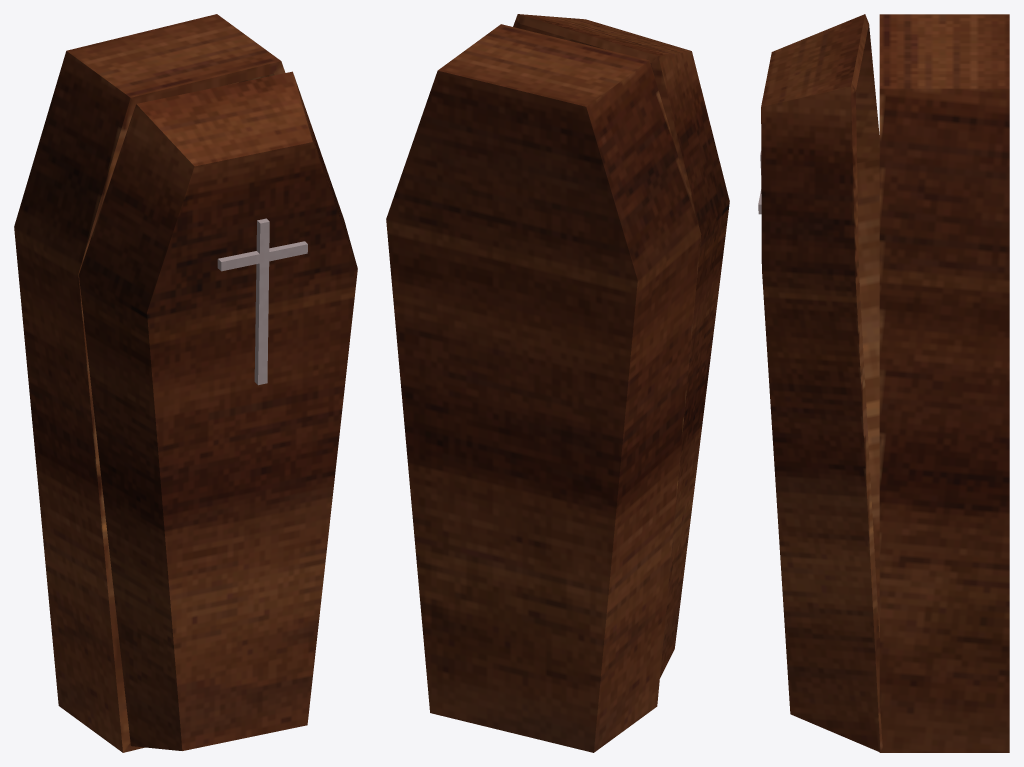
Rendered from coffin.glb.
3 renders of one model, left to right at view 1: azimuth 30°, elevation 25°; view 2: azimuth 150°, elevation 25°; view 3: azimuth 270°, elevation 25°, orthographic. The views are drawn at different scales.
Visible parts, largest first — view 1: coffinDoor_geo, coffin_geo; view 2: coffin_geo, coffinDoor_geo; view 3: coffin_geo, coffinDoor_geo.
Boxes of the visible parts, left/top/right/bottom form: coffinDoor_geo: left=79, top=71, right=357, bottom=750; coffin_geo: left=14, top=14, right=285, bottom=752; coffin_geo: left=386, top=24, right=701, bottom=752; coffinDoor_geo: left=513, top=14, right=729, bottom=677; coffin_geo: left=879, top=14, right=1009, bottom=752; coffinDoor_geo: left=758, top=14, right=882, bottom=752.
Bounding box in the file's own units: 0.973 × 2.38 × 0.8218.
2 materials, 2 textured.
